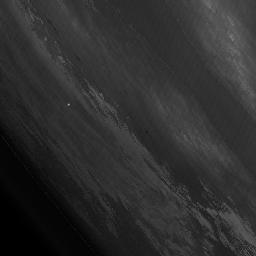Target: (66, 101, 71, 107)
